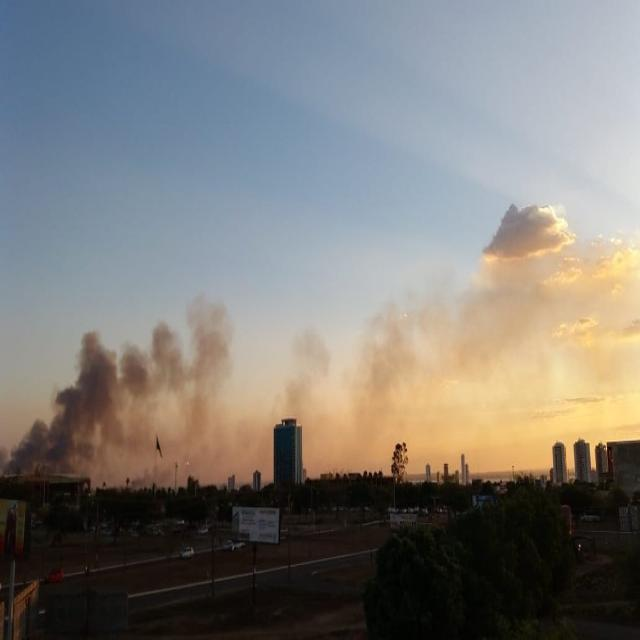Smoke: (5, 282, 231, 478), (276, 308, 438, 428)
